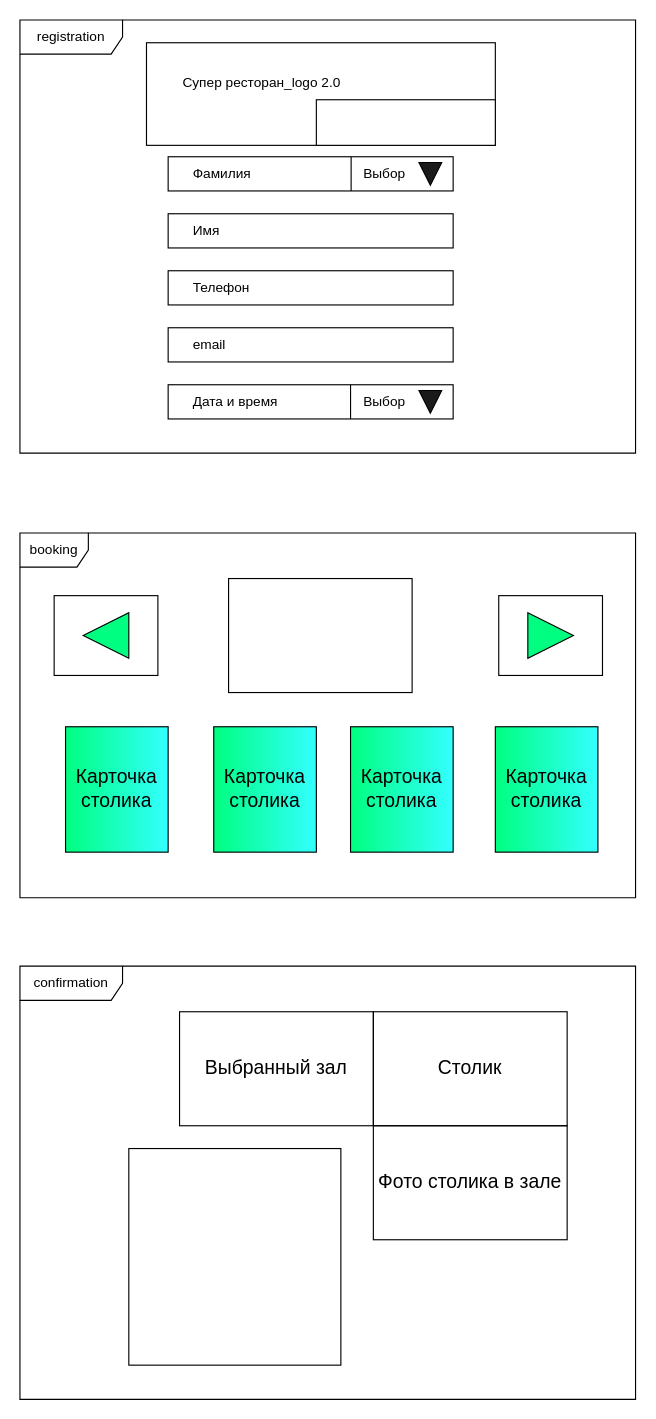
The diagram is 656 pixels wide and 1419 high, and some of its shapes have lost their labels. Each missing label, with the centre of its shape:
"Зал конкретный" goes at point 319,635.
"Информация о бронировании, контакты, пожелания" goes at point 234,1256.
"Мест осталось:...." goes at point 405,122.
